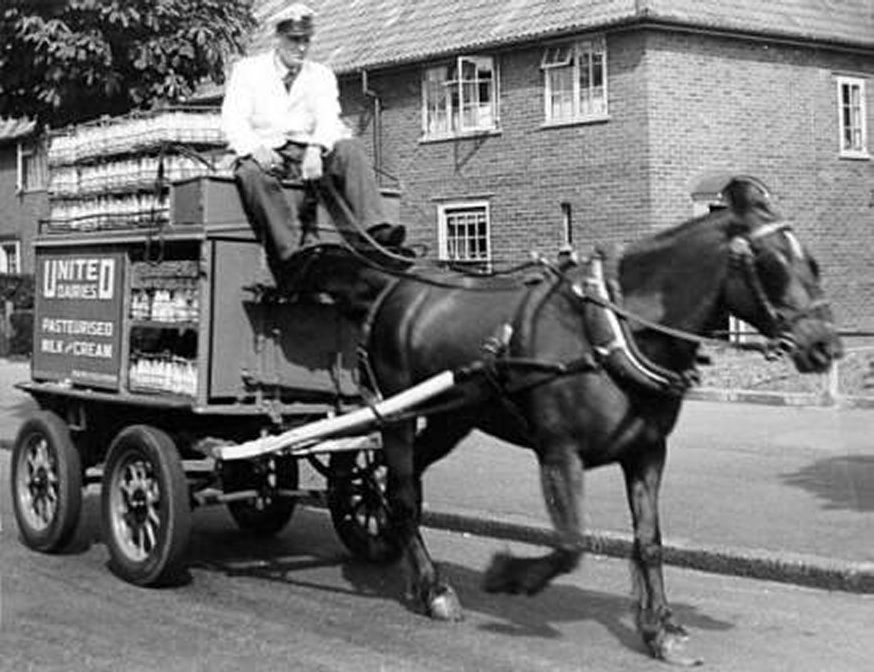horse: (352, 172, 848, 672)
